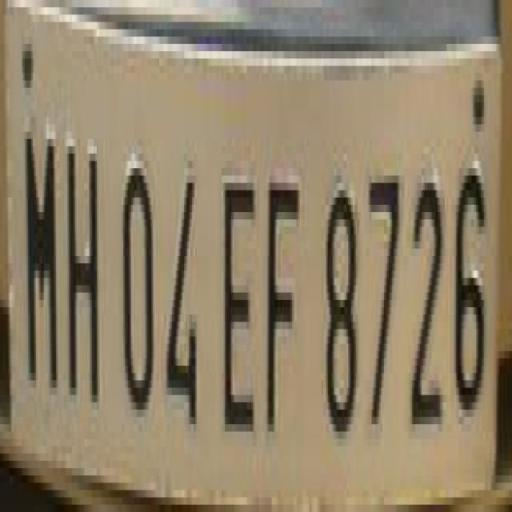number plate: (0, 14, 482, 511)
